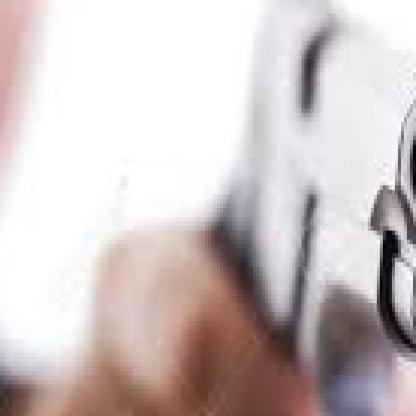gun: (241, 0, 414, 412)
